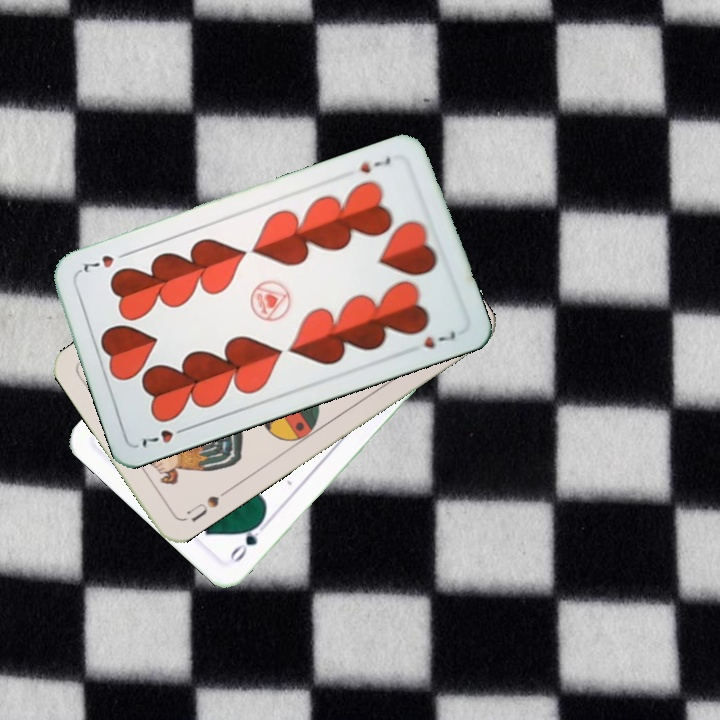GO: (225, 515, 272, 566)
H7: (138, 422, 192, 452), (356, 150, 393, 176)
SU: (183, 485, 232, 525)
